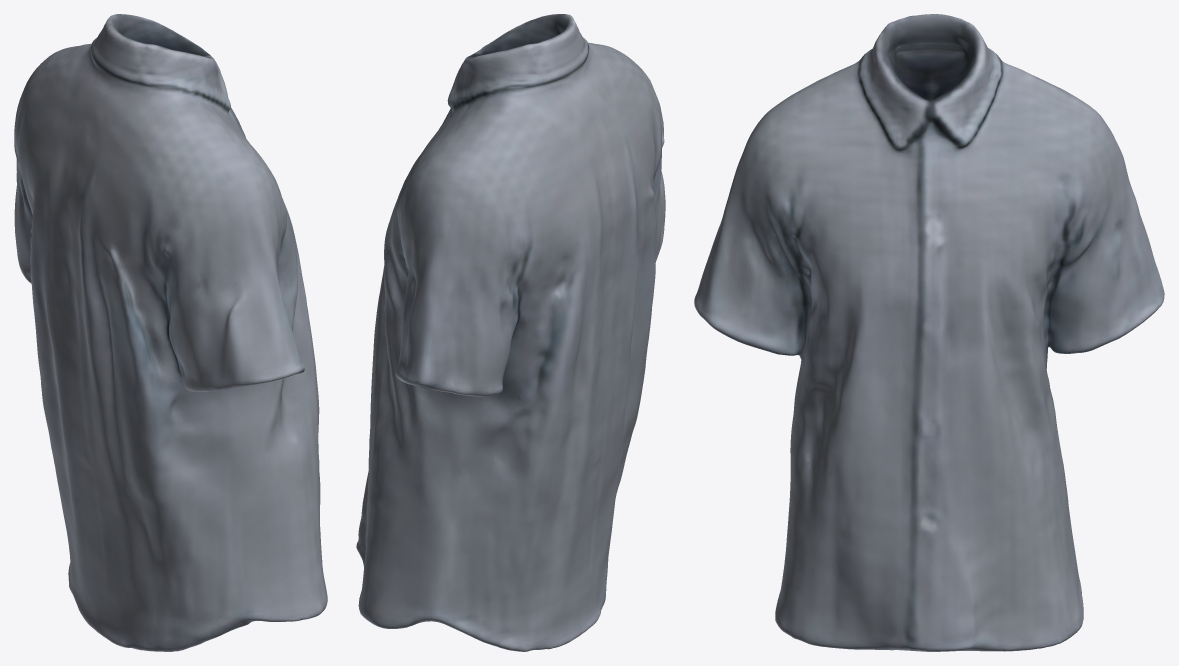
File: 375c8b314040_1170528fc83e_shirts__3d_asset_0_.glb
The picture shows the model from 3 angles, left to right: view 1: azimuth 30°, elevation 25°; view 2: azimuth 150°, elevation 25°; view 3: azimuth 270°, elevation 25°; orthographic projection.
Visible parts, largest first — view 1: high_poly; view 2: high_poly; view 3: high_poly.
Boxes of the visible parts, x1=… form: high_poly: x1=14, y1=14, x2=327, y2=651; high_poly: x1=356, y1=14, x2=665, y2=651; high_poly: x1=694, y1=14, x2=1164, y2=651.
Size of the model in its own units: 0.4333 by 1 by 0.7181.
1 material, 1 textured.
